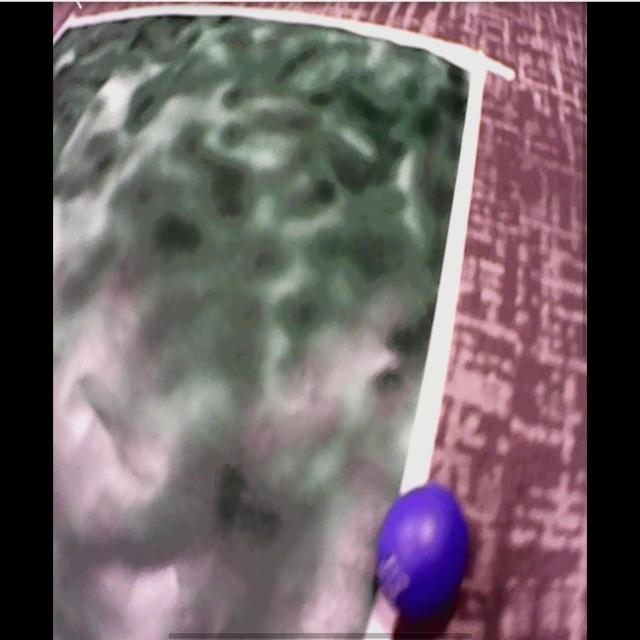ball: (377, 484, 468, 617)
